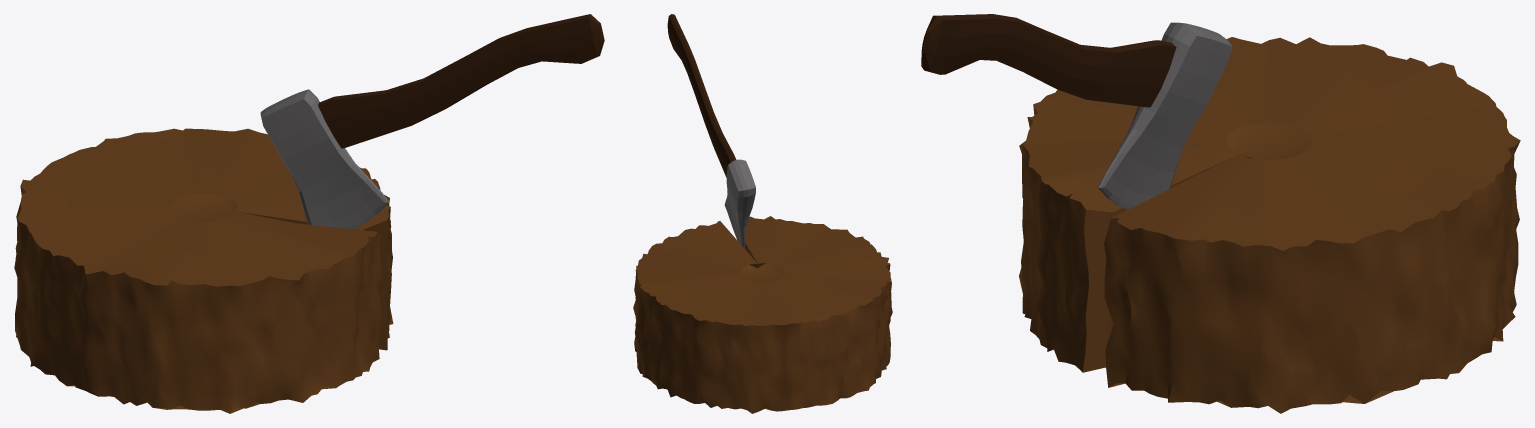
File: axe.fbx
The picture shows the model from 3 angles, left to right: view 1: azimuth 30°, elevation 25°; view 2: azimuth 150°, elevation 25°; view 3: azimuth 270°, elevation 25°; orthographic projection. The views are drawn at different scales.
Parts seen in each view (by area): view 1: Cylinder.003; view 2: Cylinder.003; view 3: Cylinder.003.
Part boxes in pixels (x1,y1,x2,y2): Cylinder.003: (14, 14, 604, 413); Cylinder.003: (633, 14, 892, 413); Cylinder.003: (921, 14, 1520, 413).
Size of the model in its own units: 67.26 by 52.15 by 61.22.
